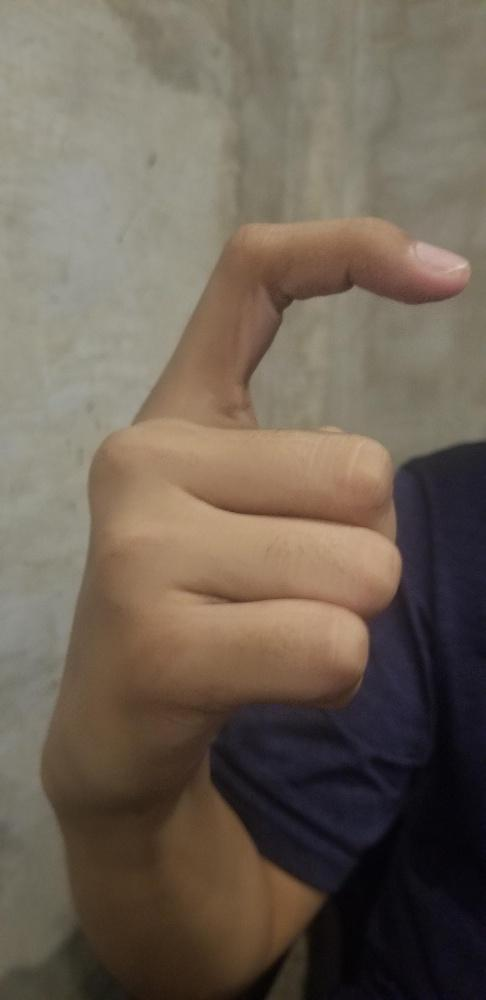x: (54, 214, 471, 767)
